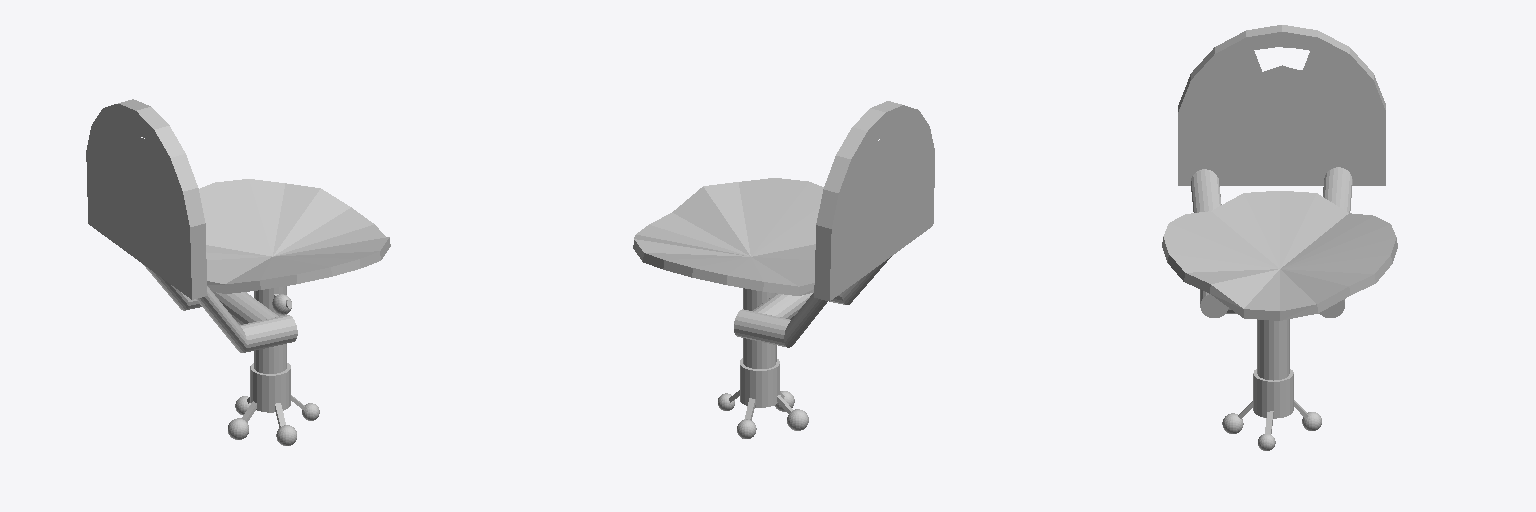
File: Chair.obj
3 views of the same model, side by side, from view 1: azimuth 30°, elevation 25°; view 2: azimuth 150°, elevation 25°; view 3: azimuth 270°, elevation 25° (orthographic).
Parts seen in each view (by area): view 1: pCylinder5, pCylinder6, pCylinder8, pCylinder2, pCylinder3, pCylinder9, pCylinder7; view 2: pCylinder5, pCylinder6, pCylinder7, pCylinder2, pCylinder3, pCylinder9, pCylinder8; view 3: pCylinder5, pCylinder6, pCylinder3, pCylinder2, pCylinder8, pCylinder7.
Part boxes in pixels (bbox=[...]): pCylinder5: bbox=[86, 99, 207, 299]; pCylinder6: bbox=[199, 179, 390, 293]; pCylinder8: bbox=[196, 286, 297, 352]; pCylinder2: bbox=[241, 363, 306, 427]; pCylinder3: bbox=[254, 286, 286, 373]; pCylinder9: bbox=[213, 292, 283, 347]; pCylinder7: bbox=[144, 265, 201, 310]; pCylinder5: bbox=[814, 101, 934, 301]; pCylinder6: bbox=[633, 178, 823, 295]; pCylinder7: bbox=[734, 293, 827, 347]; pCylinder2: bbox=[729, 358, 792, 438]; pCylinder3: bbox=[743, 288, 776, 368]; pCylinder9: bbox=[753, 293, 812, 319]; pCylinder8: bbox=[830, 256, 891, 304]; pCylinder5: bbox=[1178, 25, 1385, 185]; pCylinder6: bbox=[1162, 191, 1397, 320]; pCylinder3: bbox=[1257, 319, 1289, 380]; pCylinder2: bbox=[1238, 369, 1307, 433]; pCylinder8: bbox=[1191, 169, 1228, 317]; pCylinder7: bbox=[1319, 167, 1352, 317].
Bounding box in the file's own units: 1.45 × 2.03 × 1.25.